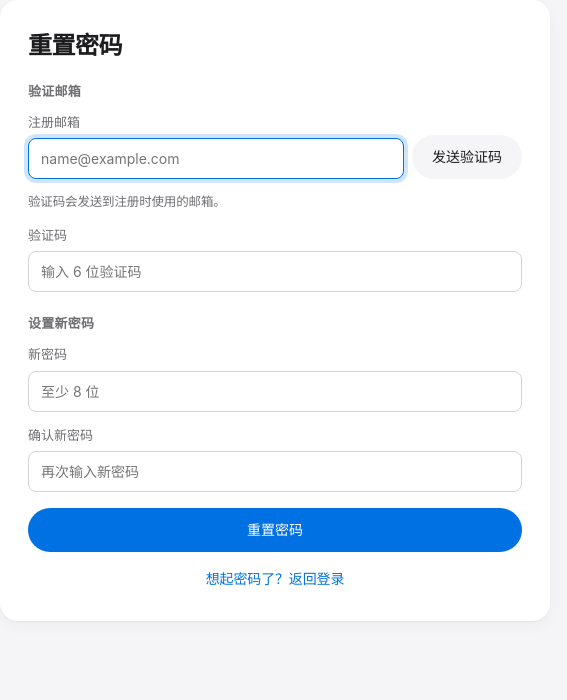
Test case: P02 忘记密码 › 发送验证码使用通用提示并进入冷却
Type "Student@Example.com" into the field labelled "注册邮箱" at (216, 158), box [28, 138, 404, 179]
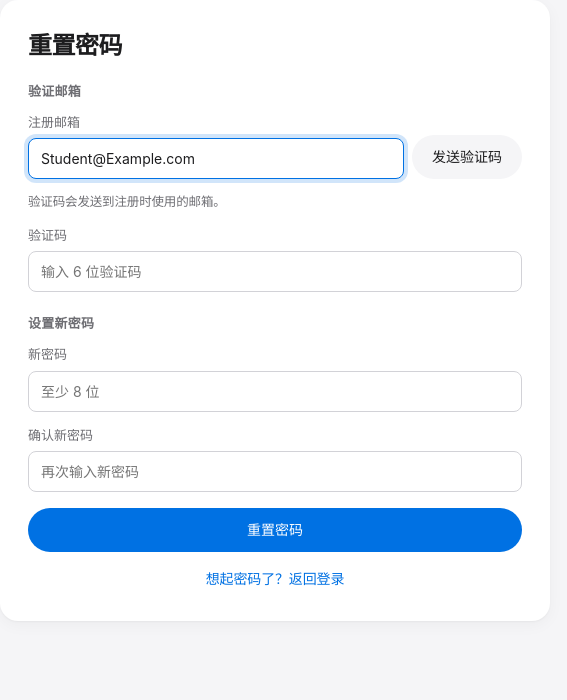
Click the button with test id "forgot-send-code" at (467, 156), box [412, 134, 522, 178]
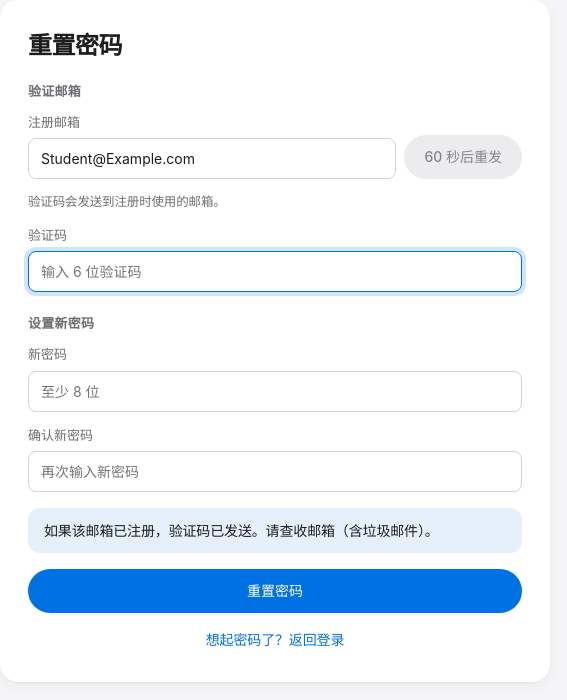
Expected: the text with test id "forgot-notice" shows "如果该邮箱已注册，验证码已发送。", [44, 522, 439, 539]
Expected: the button with test id "forgot-send-code" is disabled, [404, 134, 522, 178]
Expected: the button with test id "forgot-send-code" reads "60 秒后重发", [404, 134, 522, 178]
